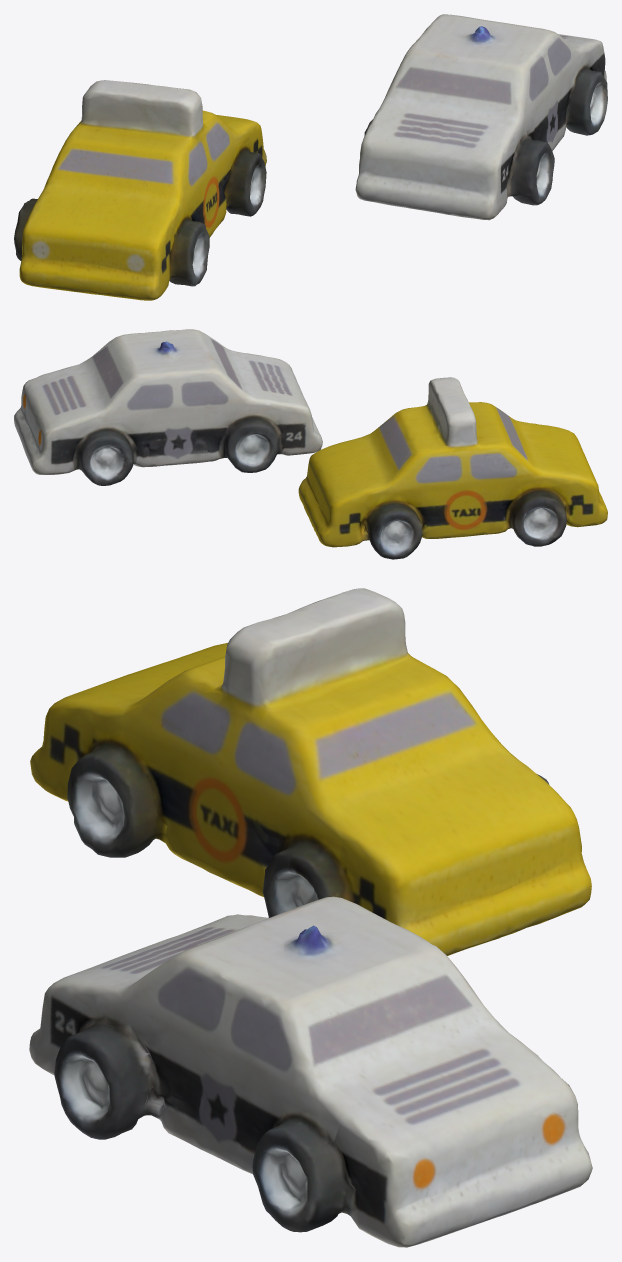
3 views of the same model, one above another, from view 1: azimuth 30°, elevation 25°; view 2: azimuth 150°, elevation 25°; view 3: azimuth 270°, elevation 25° (orthographic). The views are drawn at different scales.
Visible parts, largest first — view 1: model; view 2: model; view 3: model.
Part boxes in pixels (bbox=[...]): model: bbox=[14, 14, 607, 300]; model: bbox=[14, 329, 607, 559]; model: bbox=[29, 588, 592, 1247].
Size of the model in its own units: 0.1263 by 0.028 by 0.0566.
1 material, 1 textured.
